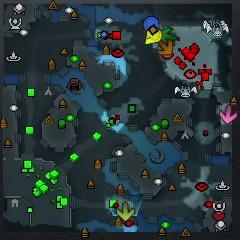p1: (143, 16, 159, 30)
p4: (145, 28, 162, 46)
x1: (219, 105, 237, 124)
x2: (117, 202, 135, 220)
x4: (161, 27, 176, 43)
x5: (157, 39, 173, 56)
